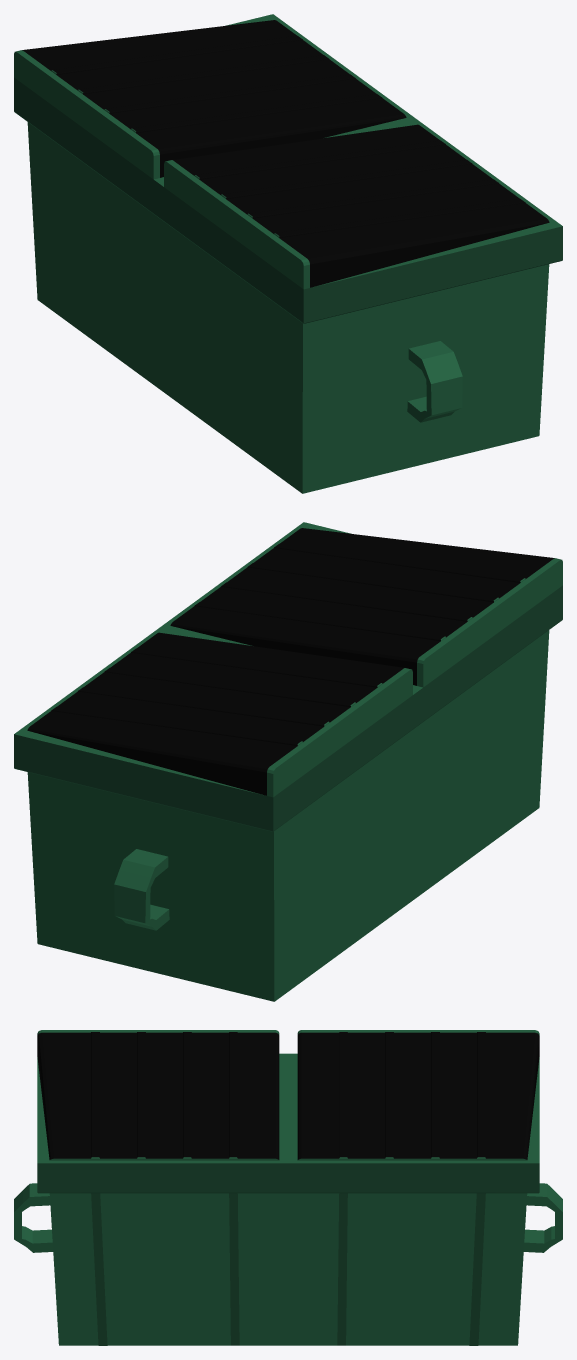
File: Dumpster.fbx
3 renders of one model, top to bottom at view 1: azimuth 30°, elevation 25°; view 2: azimuth 150°, elevation 25°; view 3: azimuth 270°, elevation 25°, orthographic. The views are drawn at different scales.
Parts seen in each view (by area): view 1: Cube; view 2: Cube; view 3: Cube.
Part boxes in pixels (x1=…): Cube: x1=14, y1=14, x2=562, y2=493; Cube: x1=14, y1=522, x2=562, y2=1001; Cube: x1=14, y1=1030, x2=562, y2=1345.
Size of the model in its own units: 499 by 451 by 1058.
